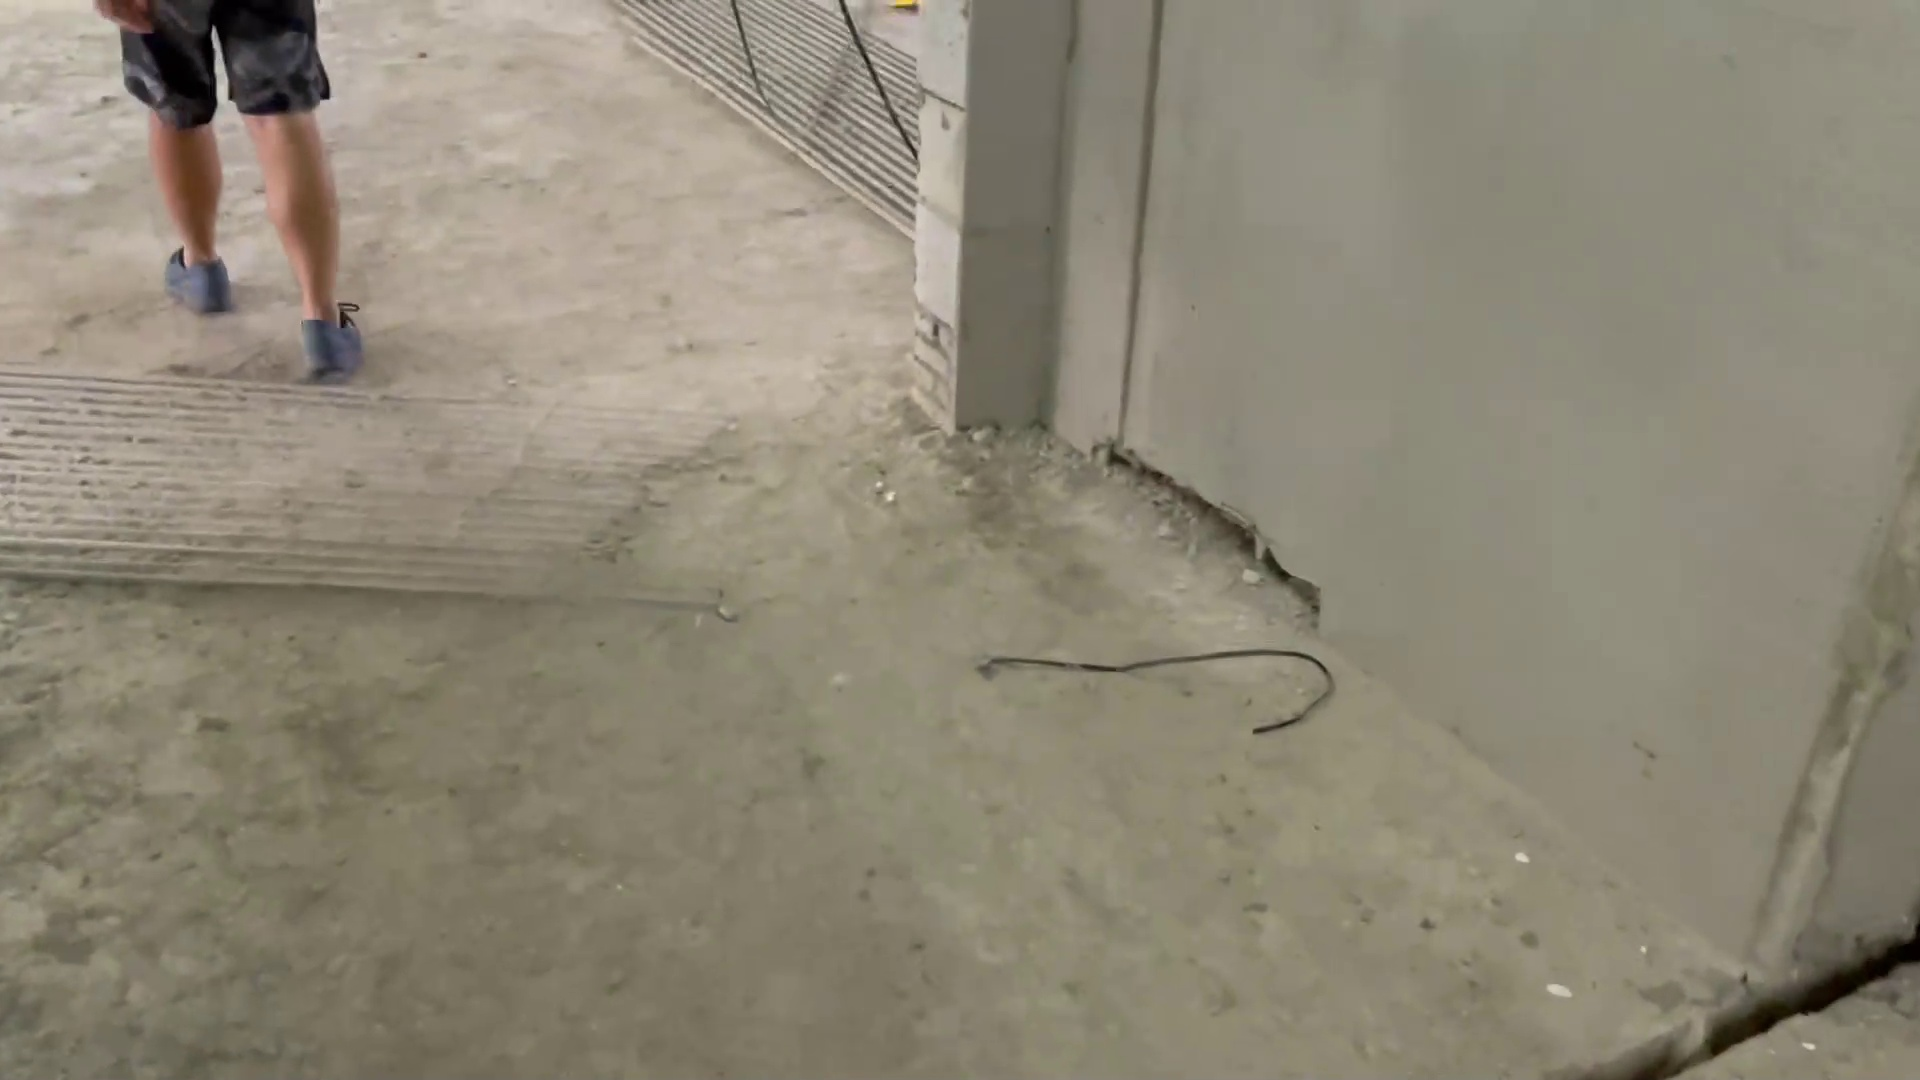person: (90, 1, 406, 379)
